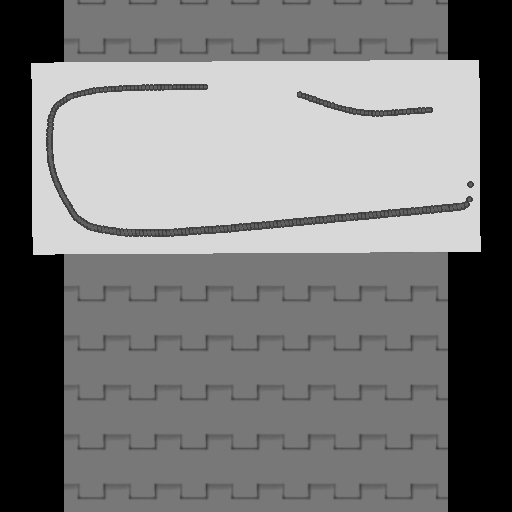Defect: (205, 78, 298, 104)
